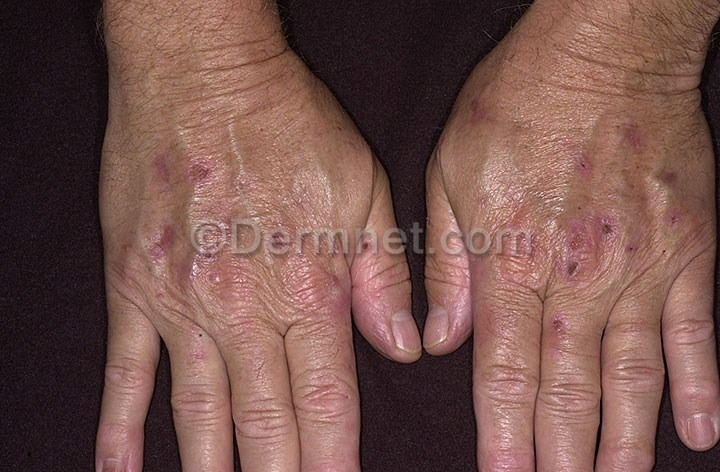Melasma: (412, 58, 720, 137), (144, 59, 299, 197)
